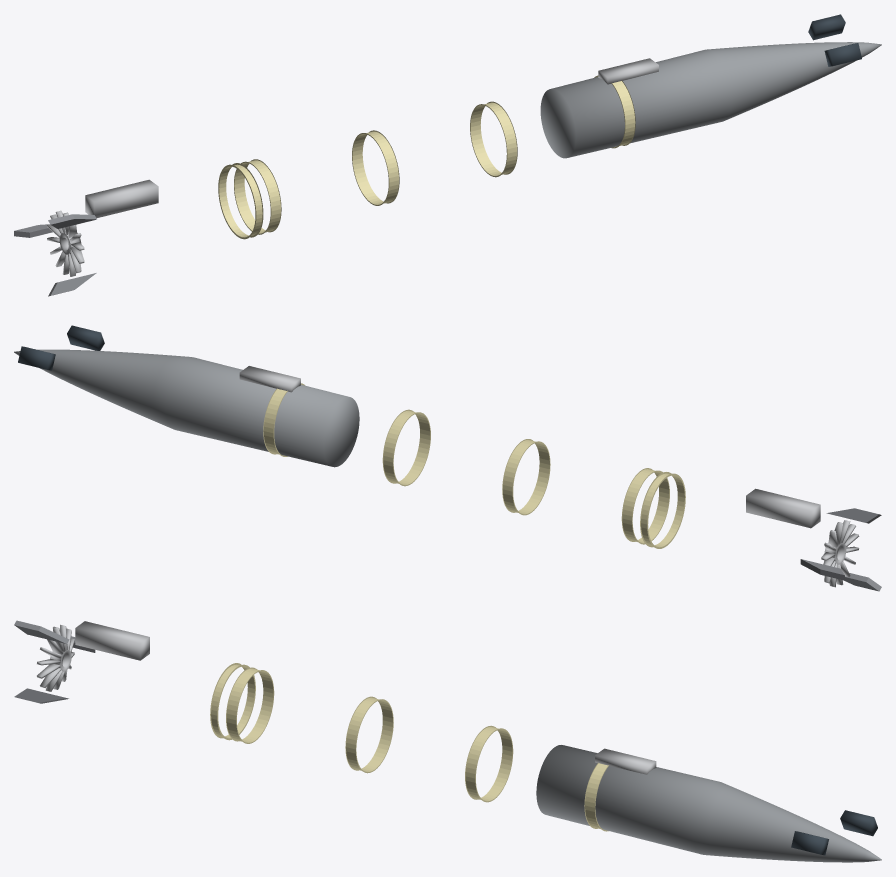
The model's file is CN_TORP_Yu6_LOD0.fbx.
3 views of the same model, one above another, from view 1: azimuth 30°, elevation 25°; view 2: azimuth 150°, elevation 25°; view 3: azimuth 330°, elevation 25° (orthographic).
Parts seen in each view (by area): view 1: WPN_CN_TORP_Yu6_LOD0_Body, WPN_CN_TORP_Yu6_LOD0_Marking, WPN_CN_TORP_Yu6_LOD0_Detail, WPN_CN_TORP_Yu6_LOD0_Propulsor, WPN_CN_TORP_Yu6_LOD0_Seeker, WPN_CN_TORP_Yu6_LOD0_Fins; view 2: WPN_CN_TORP_Yu6_LOD0_Body, WPN_CN_TORP_Yu6_LOD0_Marking, WPN_CN_TORP_Yu6_LOD0_Detail, WPN_CN_TORP_Yu6_LOD0_Propulsor, WPN_CN_TORP_Yu6_LOD0_Seeker, WPN_CN_TORP_Yu6_LOD0_Fins; view 3: WPN_CN_TORP_Yu6_LOD0_Body, WPN_CN_TORP_Yu6_LOD0_Marking, WPN_CN_TORP_Yu6_LOD0_Detail, WPN_CN_TORP_Yu6_LOD0_Propulsor, WPN_CN_TORP_Yu6_LOD0_Seeker, WPN_CN_TORP_Yu6_LOD0_Fins.
Boxes of the visible parts, <box> form: WPN_CN_TORP_Yu6_LOD0_Body: <box>540,42,881,158</box>; WPN_CN_TORP_Yu6_LOD0_Marking: <box>218,75,635,239</box>; WPN_CN_TORP_Yu6_LOD0_Detail: <box>85,58,658,218</box>; WPN_CN_TORP_Yu6_LOD0_Propulsor: <box>47,210,84,276</box>; WPN_CN_TORP_Yu6_LOD0_Seeker: <box>808,14,861,66</box>; WPN_CN_TORP_Yu6_LOD0_Fins: <box>14,214,96,296</box>; WPN_CN_TORP_Yu6_LOD0_Body: <box>14,349,359,467</box>; WPN_CN_TORP_Yu6_LOD0_Marking: <box>263,383,685,548</box>; WPN_CN_TORP_Yu6_LOD0_Detail: <box>239,366,820,528</box>; WPN_CN_TORP_Yu6_LOD0_Propulsor: <box>821,520,859,587</box>; WPN_CN_TORP_Yu6_LOD0_Seeker: <box>18,325,104,370</box>; WPN_CN_TORP_Yu6_LOD0_Fins: <box>800,508,881,591</box>; WPN_CN_TORP_Yu6_LOD0_Body: <box>536,745,881,862</box>; WPN_CN_TORP_Yu6_LOD0_Marking: <box>210,663,608,831</box>; WPN_CN_TORP_Yu6_LOD0_Detail: <box>75,621,656,774</box>; WPN_CN_TORP_Yu6_LOD0_Propulsor: <box>37,624,74,691</box>; WPN_CN_TORP_Yu6_LOD0_Seeker: <box>791,810,877,855</box>; WPN_CN_TORP_Yu6_LOD0_Fins: <box>14,620,95,703</box>.
Size of the model in its own units: 7.01 by 0.633 by 0.6147.
